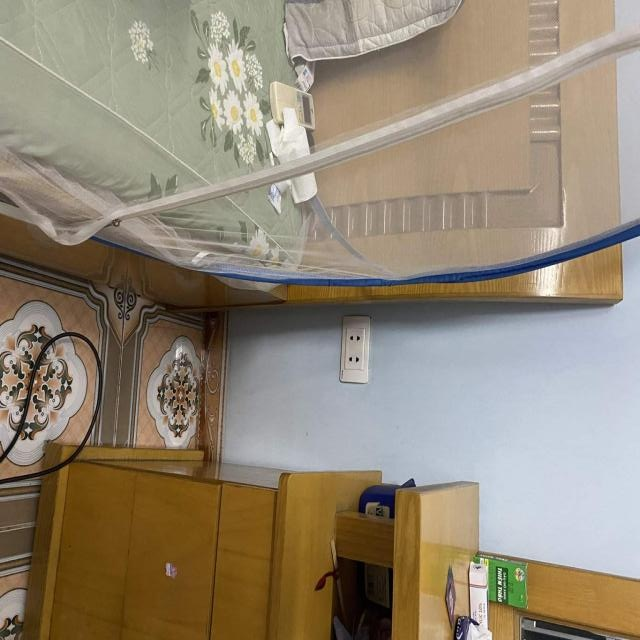outlet: (340, 315, 371, 384)
